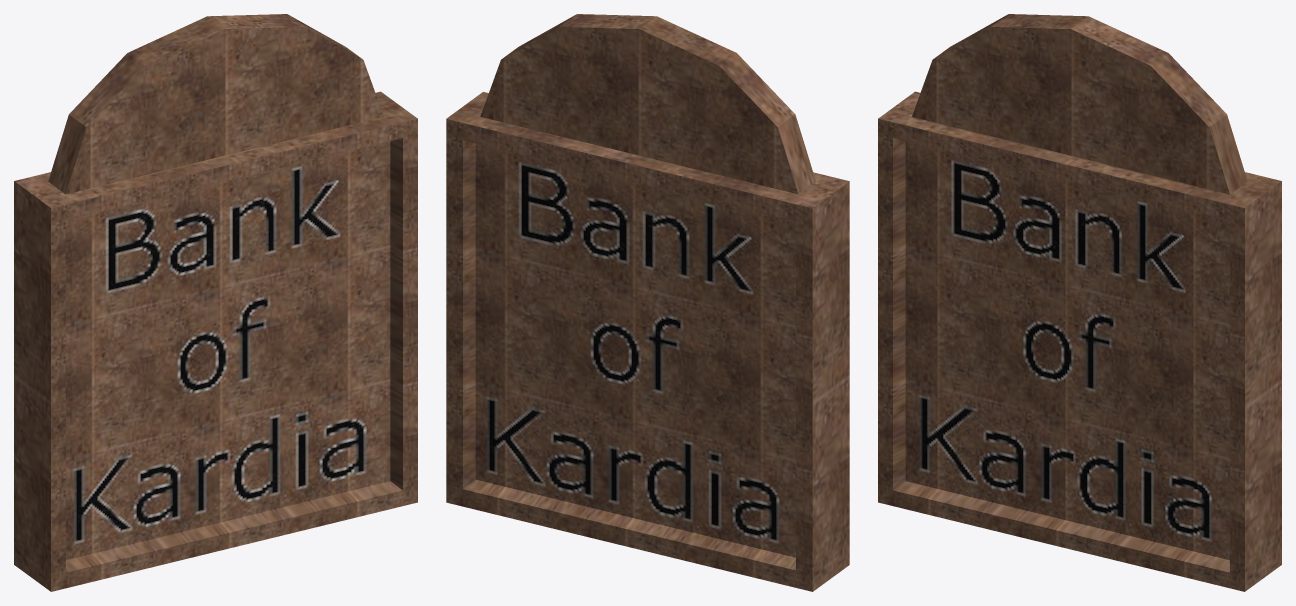
The model's file is BankofKardia.dae.
The picture shows the model from 3 angles, left to right: view 1: azimuth 30°, elevation 25°; view 2: azimuth 150°, elevation 25°; view 3: azimuth 330°, elevation 25°; orthographic projection.
Parts seen in each view (by area): view 1: S_KardiaBank; view 2: S_KardiaBank; view 3: S_KardiaBank.
Boxes of the visible parts, box(x1,y1,x2,y2) form: S_KardiaBank: box(14, 14, 417, 591); S_KardiaBank: box(446, 14, 849, 591); S_KardiaBank: box(878, 14, 1281, 591).
Bounding box in the file's own units: 1 × 1.33 × 0.175.
Materials: 1 (1 with a texture image).
